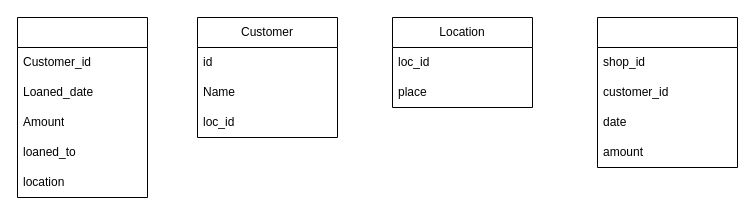
This 755x215 diagram has some shape labels left out. Here are the shapes that lost their labels. From the top down, the box of each, then its label:
(16, 16, 148, 198): Shop
(596, 16, 738, 168): Shop account
